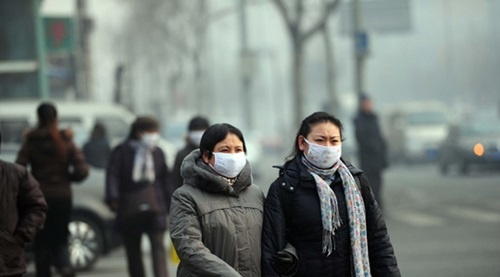Mask: (308, 131, 345, 168)
